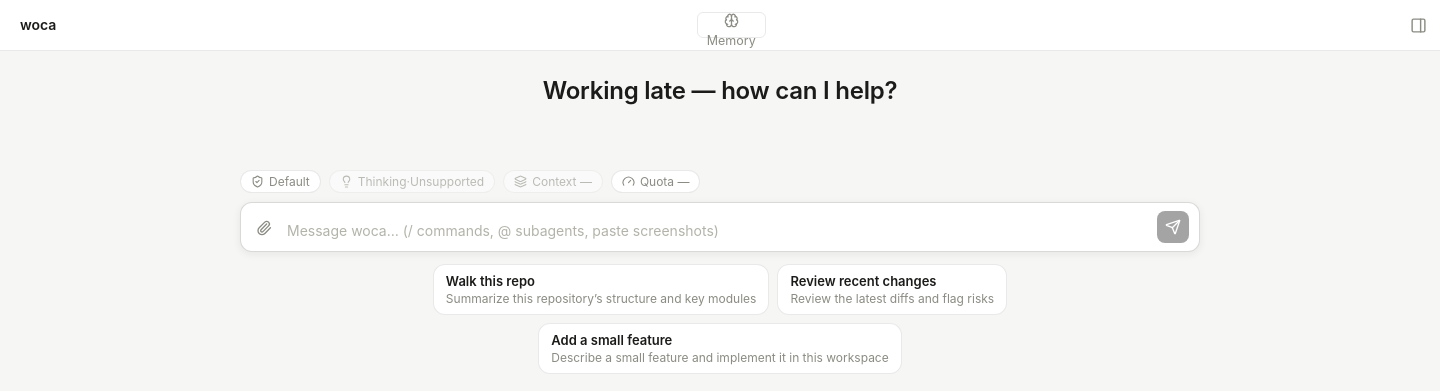
Scenario: ChatPanel greeting state › fills the composer from a greeting chip prompt
Click the button with class "greeting-chip" that starts with "Walk this repo": point(601, 289) 433,264 -> 769,315
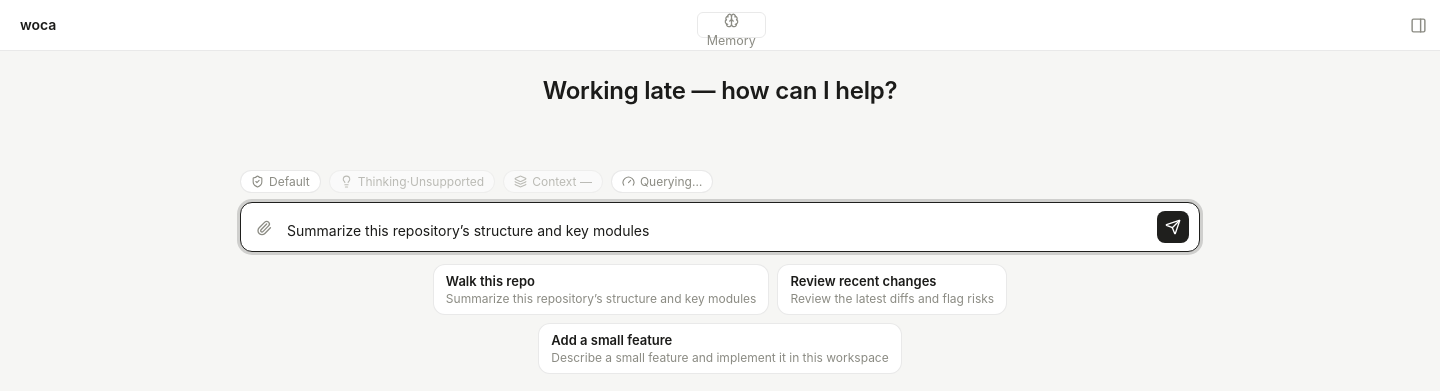
Expected: the text box is not empty, 285,218 -> 1141,243
